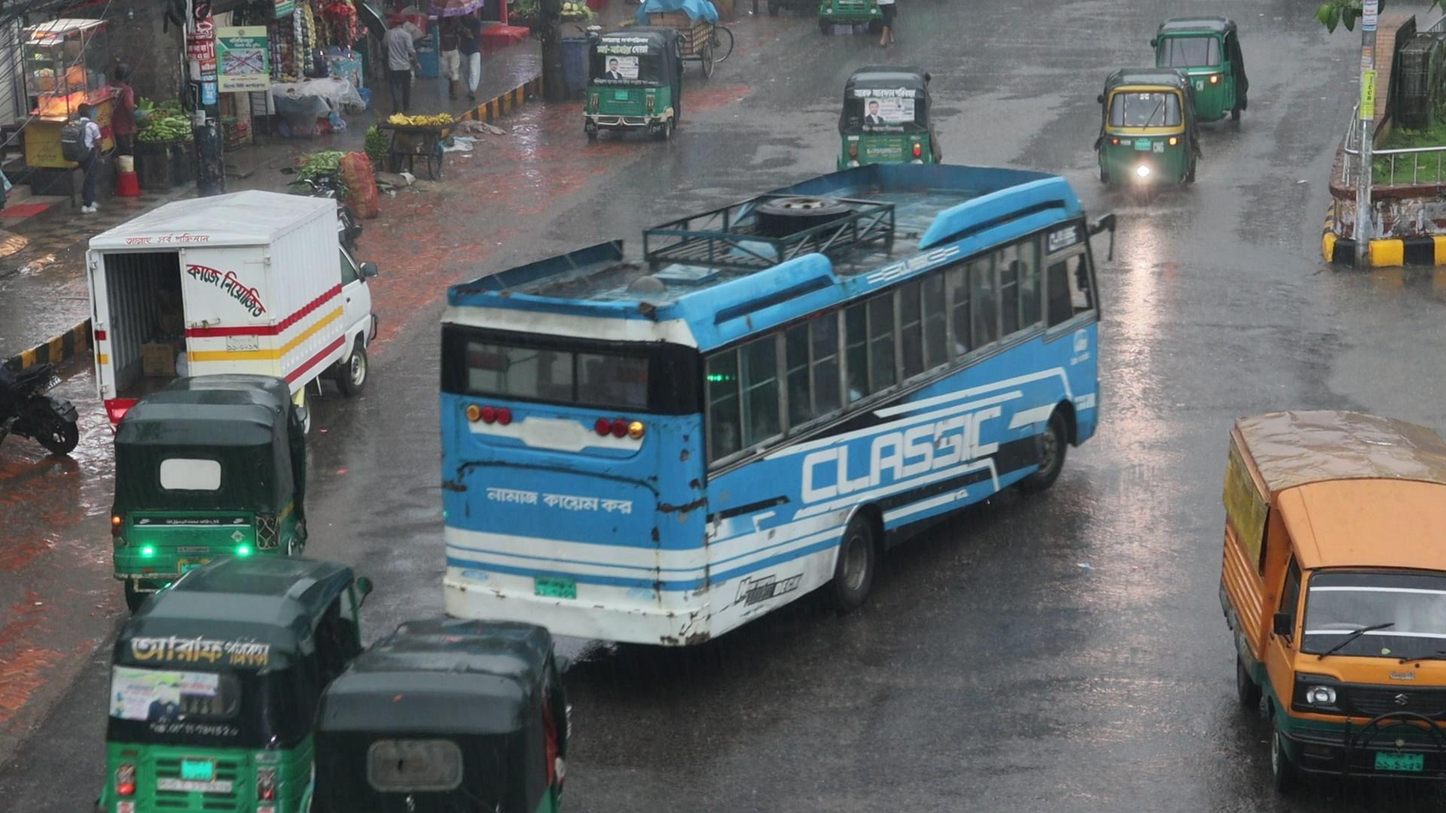Bus: (434, 157, 1114, 620)
Truck: (1213, 399, 1446, 800)
